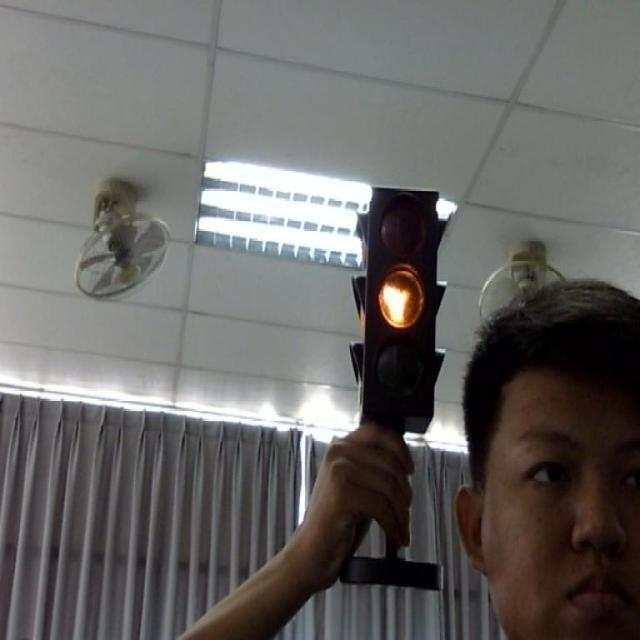yellow_light: (352, 186, 444, 430)
